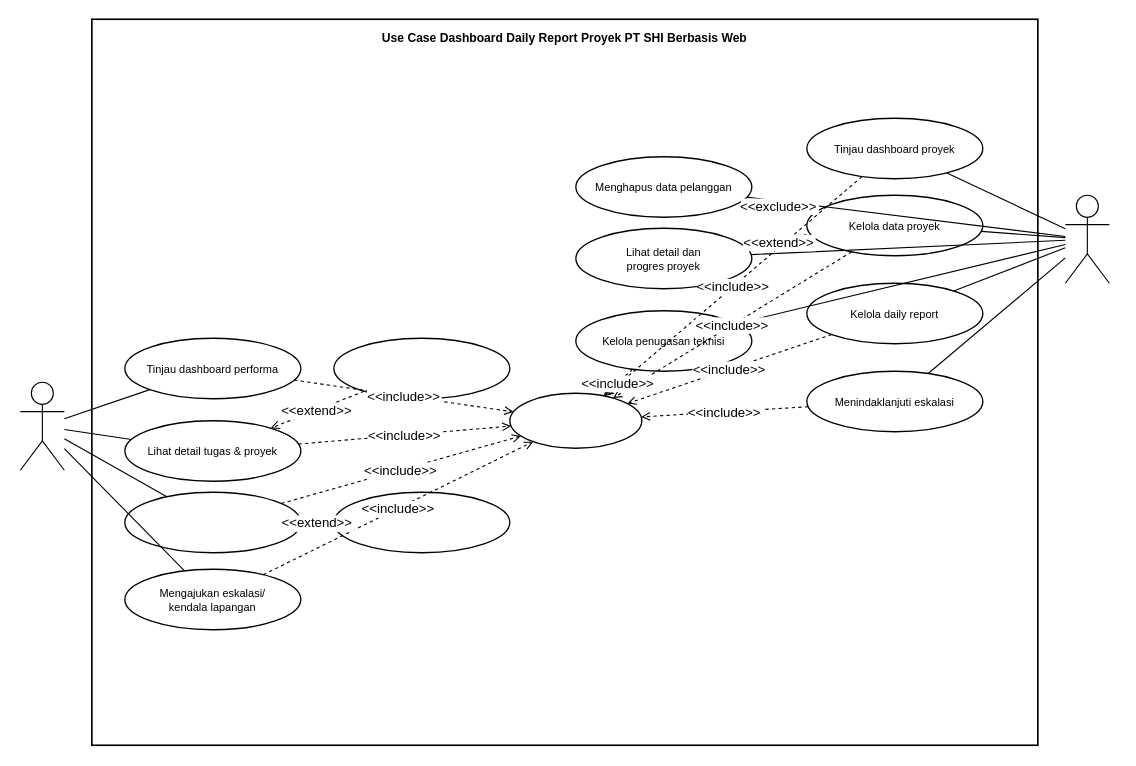
This 1136x766 diagram has some shape labels left out. Here are the shapes that lost their labels. From the top down, the centre of each, then its label:
At pixel 1086 238: "MANAJER".
At pixel 421 368: "Melihat riwayat proyek".
At pixel 41 425: "TEKNISI".
At pixel 575 420: "Login".
At pixel 212 522: "Mengisi daily report".
At pixel 421 522: "Lihat riwayat daily report".
